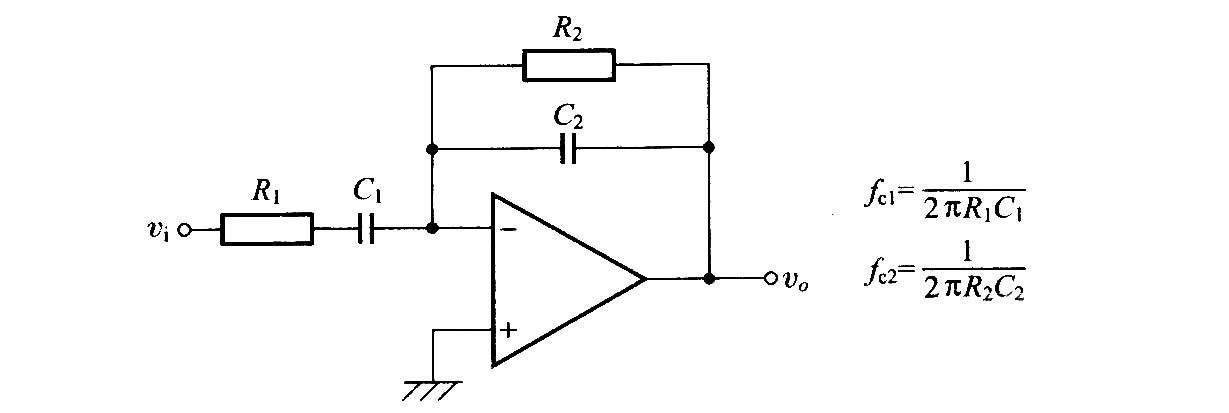amplifier: (480, 182, 653, 376)
cap1: (546, 130, 593, 170), (349, 207, 383, 251)
res1: (515, 43, 624, 91), (217, 207, 318, 254)
